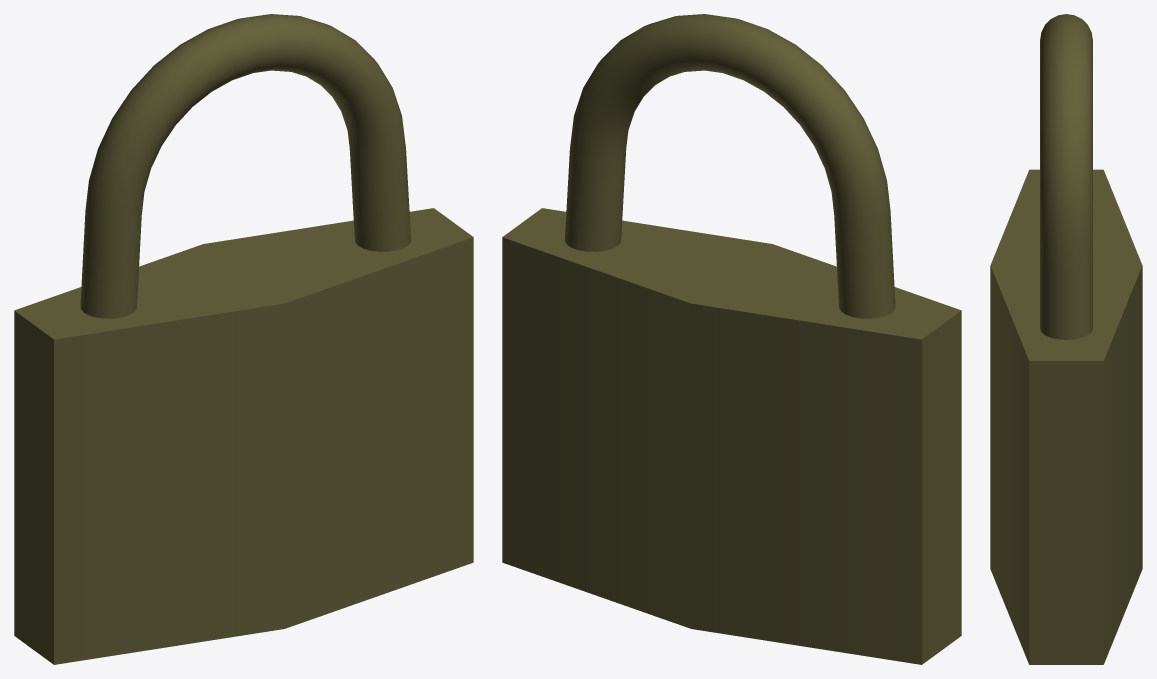
Rendered from Nankinzyou.fbx.
3 views of the same model, side by side, from view 1: azimuth 30°, elevation 25°; view 2: azimuth 150°, elevation 25°; view 3: azimuth 270°, elevation 25° (orthographic). The views are drawn at different scales.
Visible parts, largest first — view 1: pCube2; view 2: pCube2; view 3: pCube2.
Part boxes in pixels (<box>): pCube2: <box>14,14,473,664</box>; pCube2: <box>502,14,961,664</box>; pCube2: <box>990,14,1142,664</box>.
Size of the model in its own units: 3.07 by 4.04 by 1.03.
